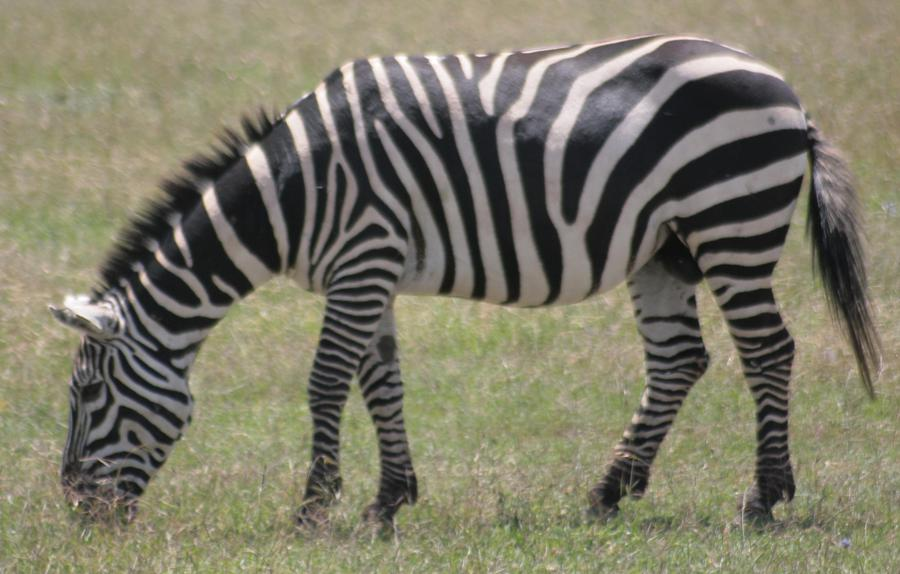zebra_plains: (298, 46, 809, 266)
